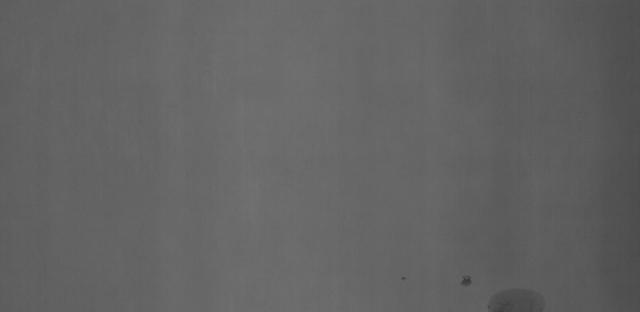oil_spot: (484, 282, 549, 312), (458, 277, 474, 288)
